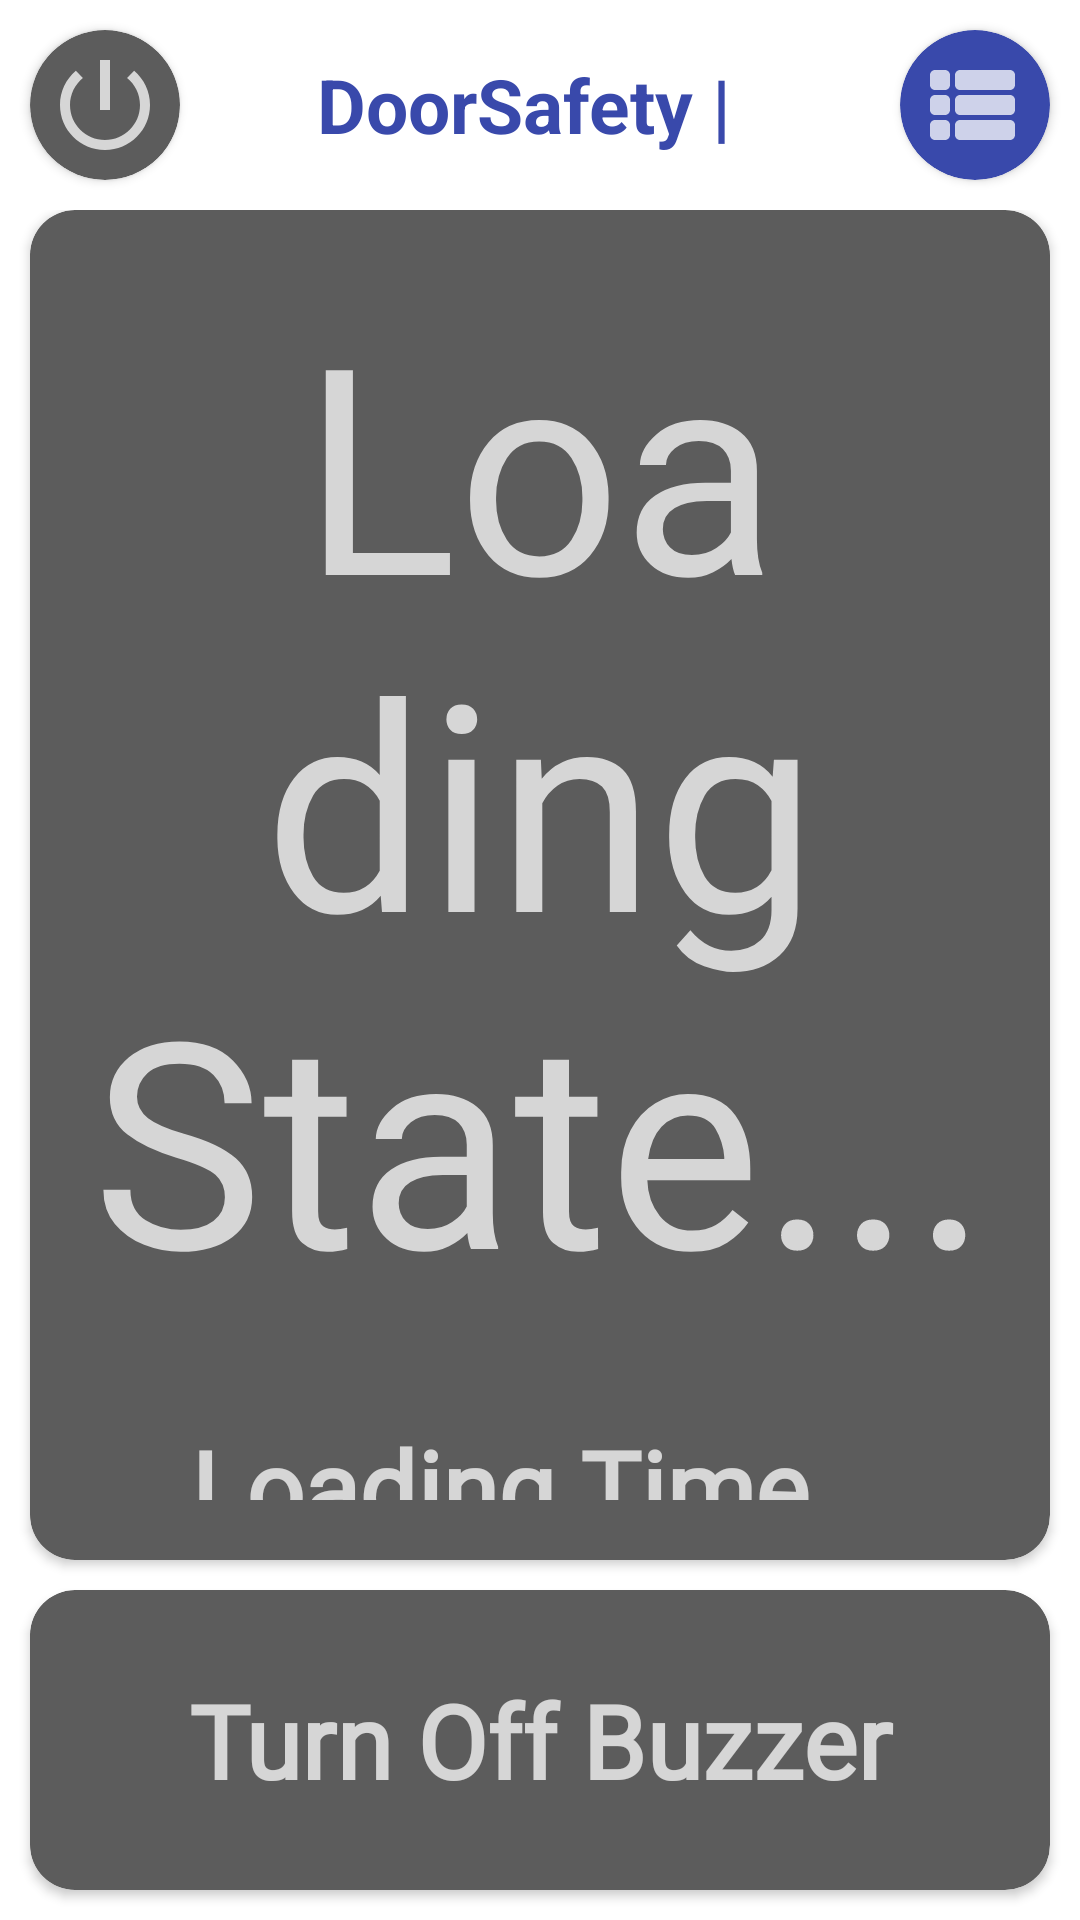

Icons on this 1080x1920 Android screen, each with its box as (x1, y1, x2, y2):
power settings: (30, 30, 180, 180)
view list: (900, 30, 1050, 180)
